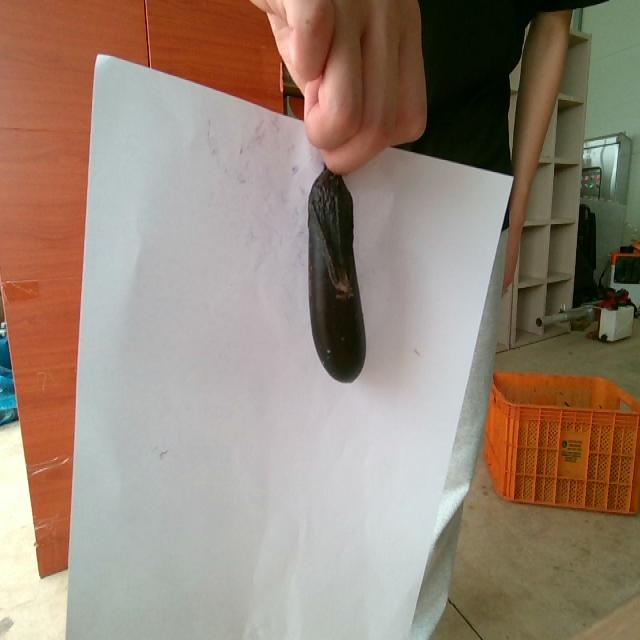Egg plant: (308, 167, 365, 381)
